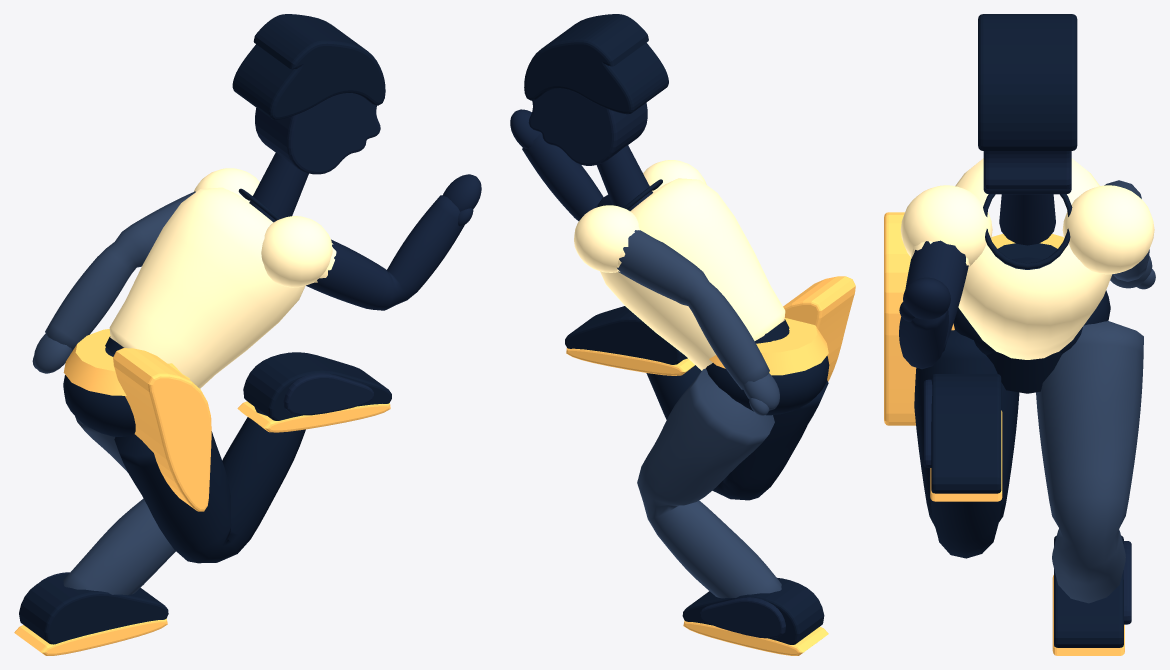
The model's file is skystride-runner.glb.
3 renders of one model, left to right at view 1: azimuth 30°, elevation 25°; view 2: azimuth 150°, elevation 25°; view 3: azimuth 270°, elevation 25°, orthographic. The views are drawn at different scales.
Visible parts, largest first — view 1: Runner_Part_00, Runner_Part_10, Runner_Part_07, Runner_Part_02, Runner_Part_12, Runner_Part_06, Runner_Part_09, Runner_Part_11, Runner_Part_17, Runner_Part_18, Runner_Part_14, Runner_Part_26 (+8 smaller); view 2: Runner_Part_09, Runner_Part_00, Runner_Part_07, Runner_Part_11, Runner_Part_06, Runner_Part_10, Runner_Part_18, Runner_Part_02, Runner_Part_12, Runner_Part_13, Runner_Part_17, Runner_Part_05 (+8 smaller); view 3: Runner_Part_09, Runner_Part_07, Runner_Part_00, Runner_Part_18, Runner_Part_10, Runner_Part_13, Runner_Part_02, Runner_Part_14, Runner_Part_12, Runner_Part_06, Runner_Part_17, Runner_Part_04 (+10 smaller).
Part boxes in pixels (x1,y1,x2,y2): Runner_Part_00: (109,187,305,388); Runner_Part_10: (114,407,305,563); Runner_Part_07: (232,14,385,119); Runner_Part_02: (113,348,211,511); Runner_Part_12: (306,195,464,310); Runner_Part_06: (255,93,380,174); Runner_Part_09: (63,416,175,595); Runner_Part_11: (45,191,195,350); Runner_Part_17: (19,573,168,644); Runner_Part_18: (243,352,391,420); Runner_Part_14: (261,216,332,287); Runner_Part_26: (283,373,373,415); Runner_Part_09: (637,368,781,598); Runner_Part_00: (600,178,785,370); Runner_Part_07: (524,14,668,114); Runner_Part_11: (617,230,769,389); Runner_Part_06: (528,88,647,165); Runner_Part_10: (646,357,828,500); Runner_Part_18: (565,306,686,364); Runner_Part_02: (783,276,855,381); Runner_Part_12: (522,133,612,221); Runner_Part_13: (574,205,639,272); Runner_Part_17: (682,578,824,644); Runner_Part_05: (706,329,829,415); Runner_Part_09: (1036,320,1143,603); Runner_Part_07: (978,14,1077,150); Runner_Part_00: (955,158,1112,359); Runner_Part_18: (931,374,1001,493); Runner_Part_10: (914,330,1019,558); Runner_Part_13: (1062,185,1154,274); Runner_Part_02: (884,212,954,425); Runner_Part_14: (900,185,992,266); Runner_Part_12: (899,240,968,369); Runner_Part_06: (983,151,1071,194); Runner_Part_17: (1054,535,1123,647); Runner_Part_04: (986,243,1062,393).
Size of the model in its own units: 1.26 by 1.81 by 0.621.
